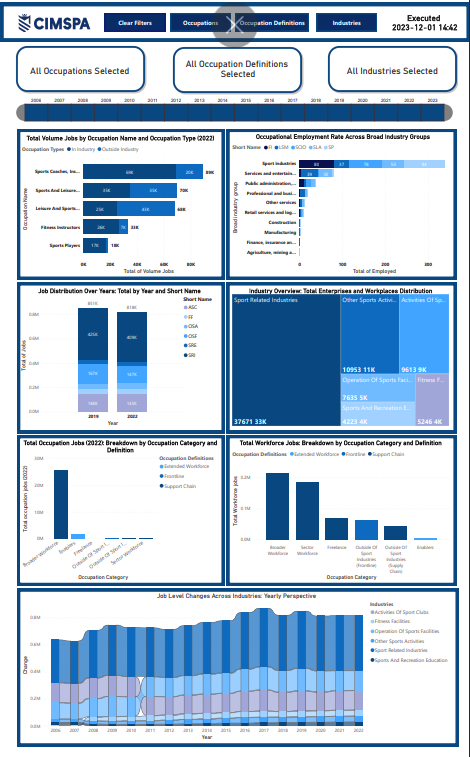

Layout of this report page (visuals, bound fields, positions):
{"tool":"powerbi","page":{"name":"Composition of workforce 2","canvas":[1248,2000],"ordinal":4},"visuals":[{"type":"Timeline1447991079100","fields":{"Time":["dim_Date.Date.Variation.Date Hierarchy.Year"]},"box":[38.8,242.5,1171.2,102.5],"z":0},{"type":"shape","box":[45.6,336.7,550,400],"z":1000},{"type":"shape","box":[866,112.3,350,130],"z":2000},{"type":"shape","box":[456.9,114,350,130],"z":3000},{"type":"shape","box":[37.7,112.2,350,130],"z":4000},{"type":"card","fields":{"Values":["# Measures.OccupationsSelected2"]},"box":[49.7,127.1,324.3,104.3],"z":5000},{"type":"card","fields":{"Values":["# Measures.IndustriesSelected"]},"box":[887.1,127.1,308.6,104.3],"z":6000},{"type":"card","fields":{"Values":["# Measures.DefinitionsSelected"]},"box":[468.3,114,328.6,121.4],"z":7000},{"type":"shape","box":[0,0,1248.6,104.3],"z":8000},{"type":"image","box":[23.4,23.4,238.5,58.5],"z":9000},{"type":"actionButton","box":[451.4,28.6,161.4,48.6],"z":10000},{"type":"actionButton","box":[277.1,28.6,161.4,48.6],"z":11000},{"type":"card","fields":{"Values":["# Measures.Executed"]},"box":[1018.6,11.4,220,81.4],"z":12000},{"type":"barChart","title":"Total Volume Jobs by Occupation Name and Occupation Type (2022)","fields":{"Category":["Occupations.Name"],"Series":["S&PA_occs in S&PA_ind.Occupation Jobs (2022)"],"Y":["Sum(S&PA_occs in S&PA_ind.Value)"]},"box":[53.8,350,531.2,377.5],"z":13000},{"type":"shape","box":[602.7,336.7,610,400],"z":14000},{"type":"barChart","title":"Occupational Employment Rate Across Broad Industry Groups","fields":{"Category":["S&PA_SOC in nonS&PA_ind.Broad industry group"],"Y":["Sum(S&PA_SOC in nonS&PA_ind.Employed)"],"Series":["Occupations.ShortName"]},"box":[612.5,346.2,597.5,381.2],"z":15000},{"type":"actionButton","box":[625.7,28.6,194.3,48.6],"z":16000},{"type":"shape","box":[602.7,743.8,610,400],"z":23000},{"type":"shape","box":[46.1,743.8,550,400],"z":24000},{"type":"treemap","title":"Industry Overview: Total Enterprises and Workplaces Distribution","fields":{"Group":["Industries.Name"],"Values":["Sum(SIC_overview_table.Enterprises)"],"Details":["SIC_overview_table.Workplaces"]},"box":[612.7,756.7,585.7,374.3],"z":25000},{"type":"columnChart","title":"Job Distribution Over Years: Total by Year and Short Name","fields":{"Y":["Sum(IndustiesJobs.Jobs)"],"Category":["IndustiesJobs.Year"],"Series":["Industries.ShortName"]},"box":[50,756.2,535,375],"z":26000},{"type":"actionButton","box":[840,28.6,161.4,48.6],"z":27000},{"type":"shape","box":[47,1149.1,550,400],"z":31000},{"type":"columnChart","title":"Total Occupation Jobs (2022): Breakdown by Occupation Category and Definition","fields":{"Y":["Sum(CIMSPA_workforce_def.Total occupation jobs (2022))"],"Series":["OccupationDefinitions.Occupation definition"],"Category":["OccupationCategory.Occupation Category"]},"box":[54.1,1159.1,531.4,380],"z":32000},{"type":"shape","box":[602.4,1150,610,400],"z":33000},{"type":"columnChart","title":"Total Workforce Jobs: Breakdown by Occupation Category and Definition","fields":{"Y":["Sum(CIMSPA_workforce_def.Workforce_jobs)"],"Series":["OccupationDefinitions.Occupation definition"],"Category":["OccupationCategory.Occupation Category"]},"box":[612.7,1159.5,585.7,380],"z":34000},{"type":"shape","box":[45.7,1557.1,1171.4,418.6],"z":35000},{"type":"ribbonChart","title":"Job Level Changes Across Industries: Yearly Perspective","fields":{"Y":["Sum(S&PA_SIC4_time.Change)"],"Category":["dim_Date.Year"],"Series":["Industries.Name"]},"box":[54.3,1565.7,1148.6,400],"z":36000}]}

Visuals, with their boxes in screenshot pixels (x1, y1, x2, y2), scaled from the page's 1248x2000 canvas onto the 470x757 screenshot:
Timeline1447991079100 - dim_Date.Date.Variation.Date Hierarchy.Year: bbox(15, 92, 456, 131)
shape: bbox(17, 127, 224, 279)
shape: bbox(326, 43, 458, 92)
shape: bbox(172, 43, 304, 92)
shape: bbox(14, 42, 146, 92)
card - # Measures.OccupationsSelected2: bbox(19, 48, 141, 88)
card - # Measures.IndustriesSelected: bbox(334, 48, 450, 88)
card - # Measures.DefinitionsSelected: bbox(176, 43, 300, 89)
shape: bbox(0, 0, 469, 39)
image: bbox(9, 9, 99, 31)
actionButton: bbox(170, 11, 231, 29)
actionButton: bbox(104, 11, 165, 29)
card - # Measures.Executed: bbox(384, 4, 466, 35)
"Total Volume Jobs by Occupation Name and Occupation Type (2022)" barChart: bbox(20, 132, 220, 275)
shape: bbox(227, 127, 457, 279)
"Occupational Employment Rate Across Broad Industry Groups" barChart: bbox(231, 131, 456, 275)
actionButton: bbox(236, 11, 309, 29)
shape: bbox(227, 282, 457, 433)
shape: bbox(17, 282, 224, 433)
"Industry Overview: Total Enterprises and Workplaces Distribution" treemap: bbox(231, 286, 451, 428)
"Job Distribution Over Years: Total by Year and Short Name" columnChart: bbox(19, 286, 220, 428)
actionButton: bbox(316, 11, 377, 29)
shape: bbox(18, 435, 225, 586)
"Total Occupation Jobs (2022): Breakdown by Occupation Category and Definition" columnChart: bbox(20, 439, 221, 583)
shape: bbox(227, 435, 457, 587)
"Total Workforce Jobs: Breakdown by Occupation Category and Definition" columnChart: bbox(231, 439, 451, 583)
shape: bbox(17, 589, 458, 748)
"Job Level Changes Across Industries: Yearly Perspective" ribbonChart: bbox(20, 593, 453, 744)
